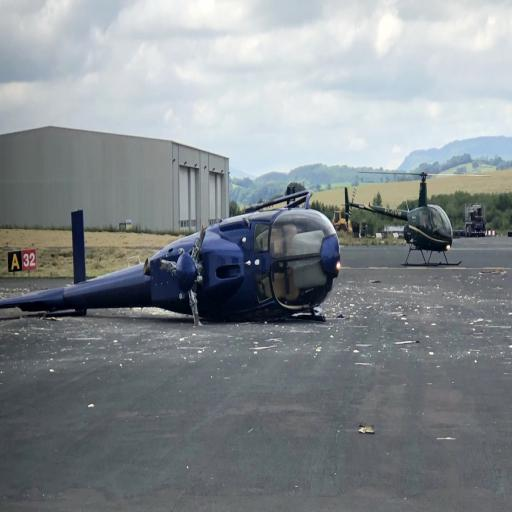helicopter: (2, 180, 346, 336), (335, 164, 470, 273)
